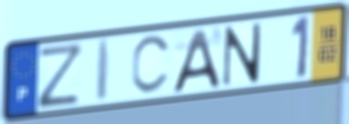1: (289, 13, 311, 81)
A: (169, 26, 223, 95)
C: (129, 33, 174, 98)
I: (94, 37, 114, 104)
N: (220, 21, 264, 89)
Z: (36, 40, 86, 111)
